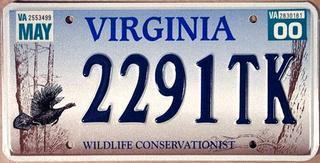placa de veiculo: (8, 3, 311, 160)
